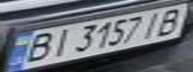1: (93, 19, 115, 49)
3: (72, 23, 96, 53)
5: (109, 17, 133, 47)
7: (121, 14, 148, 43)
B: (15, 29, 60, 64), (151, 6, 190, 37)
I: (45, 26, 75, 59), (139, 9, 169, 38)
